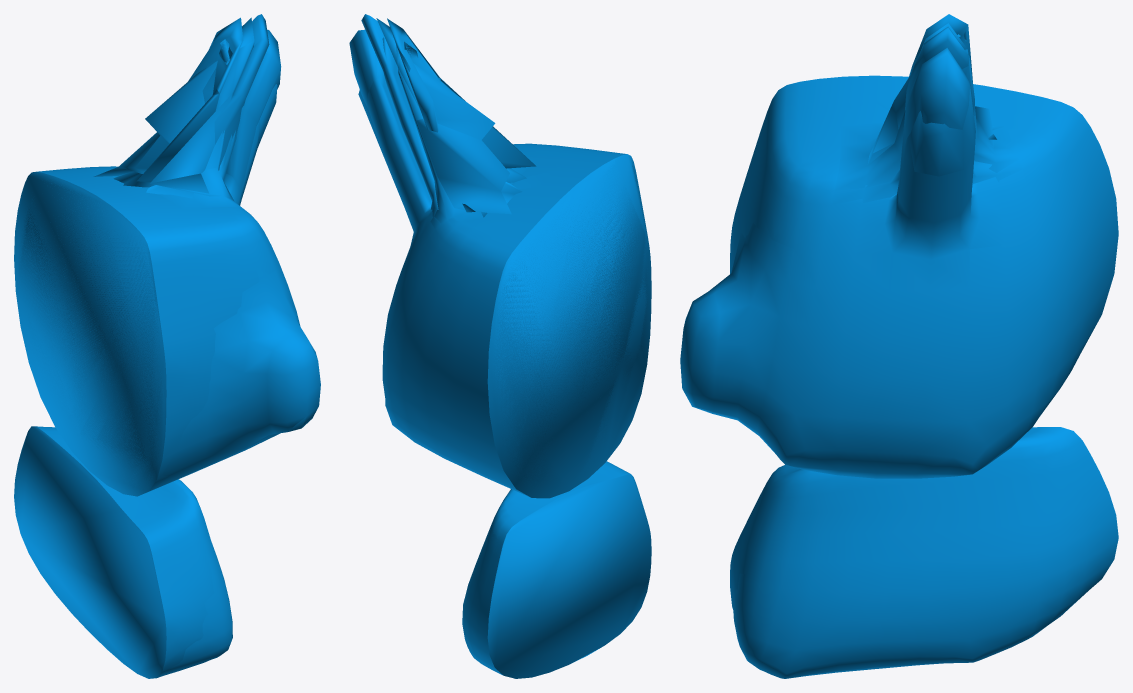
3 views of the same model, side by side, from view 1: azimuth 30°, elevation 25°; view 2: azimuth 150°, elevation 25°; view 3: azimuth 270°, elevation 25° (orthographic). The views are drawn at different scales.
Visible parts, largest first — view 1: Cube.001; view 2: Cube.001; view 3: Cube.001.
Boxes of the visible parts, x1=… form: Cube.001: x1=14, y1=14, x2=320, y2=678; Cube.001: x1=349, y1=14, x2=651, y2=678; Cube.001: x1=680, y1=14, x2=1118, y2=678.
Size of the model in its own units: 1.27 by 3.56 by 1.93.
